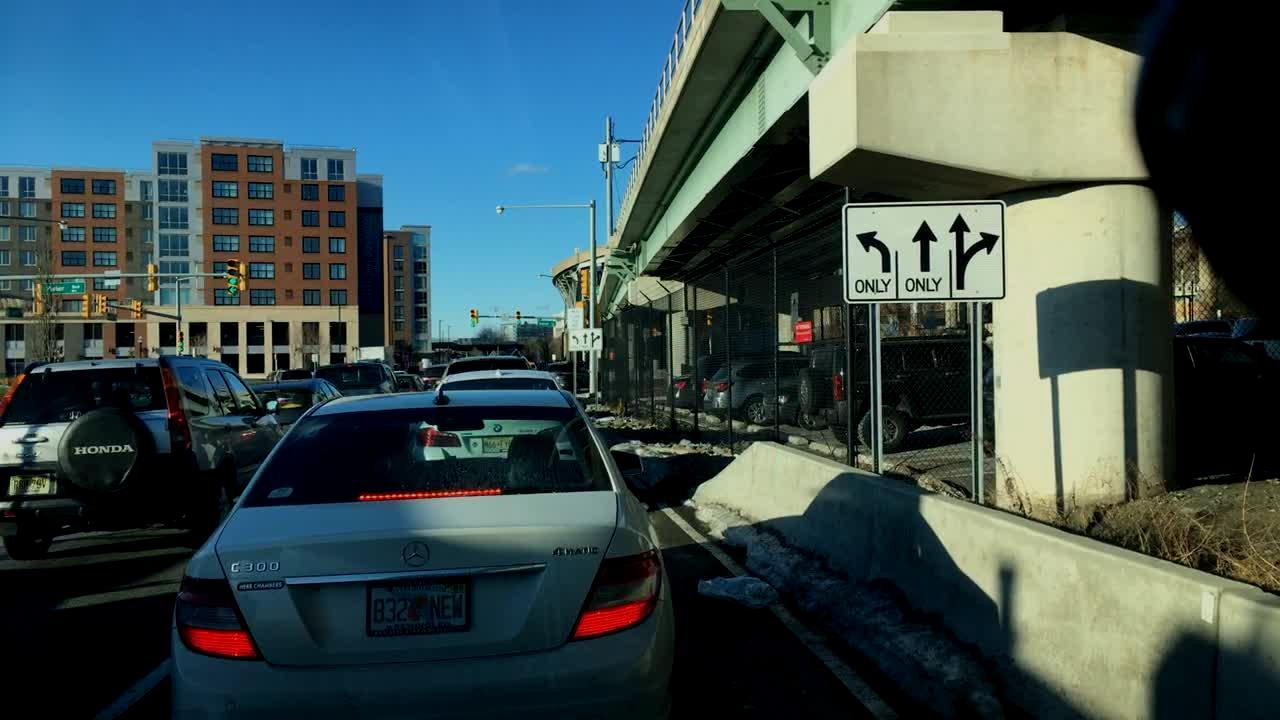Honda: (76, 440, 132, 464), (64, 403, 83, 427)
Mercedes: (392, 533, 441, 576)
